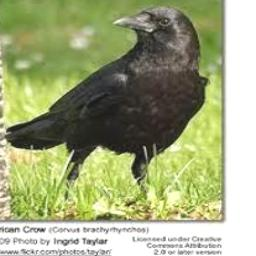Crow: (2, 4, 210, 220)
